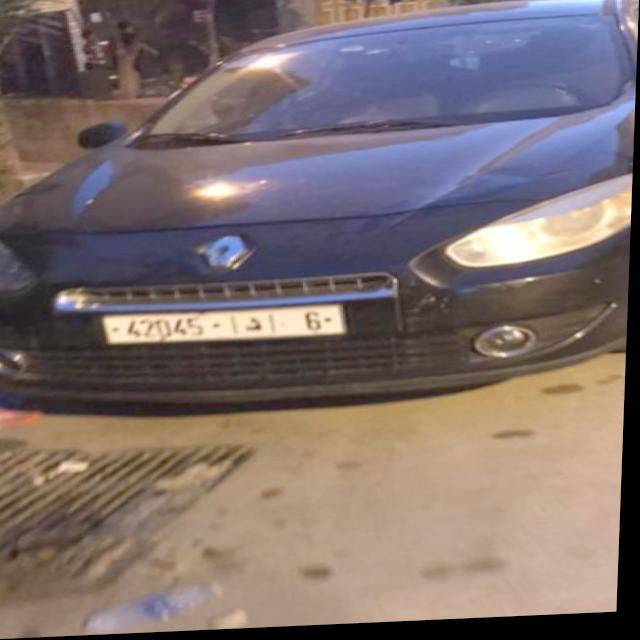License-Plate: (106, 308, 348, 346)
